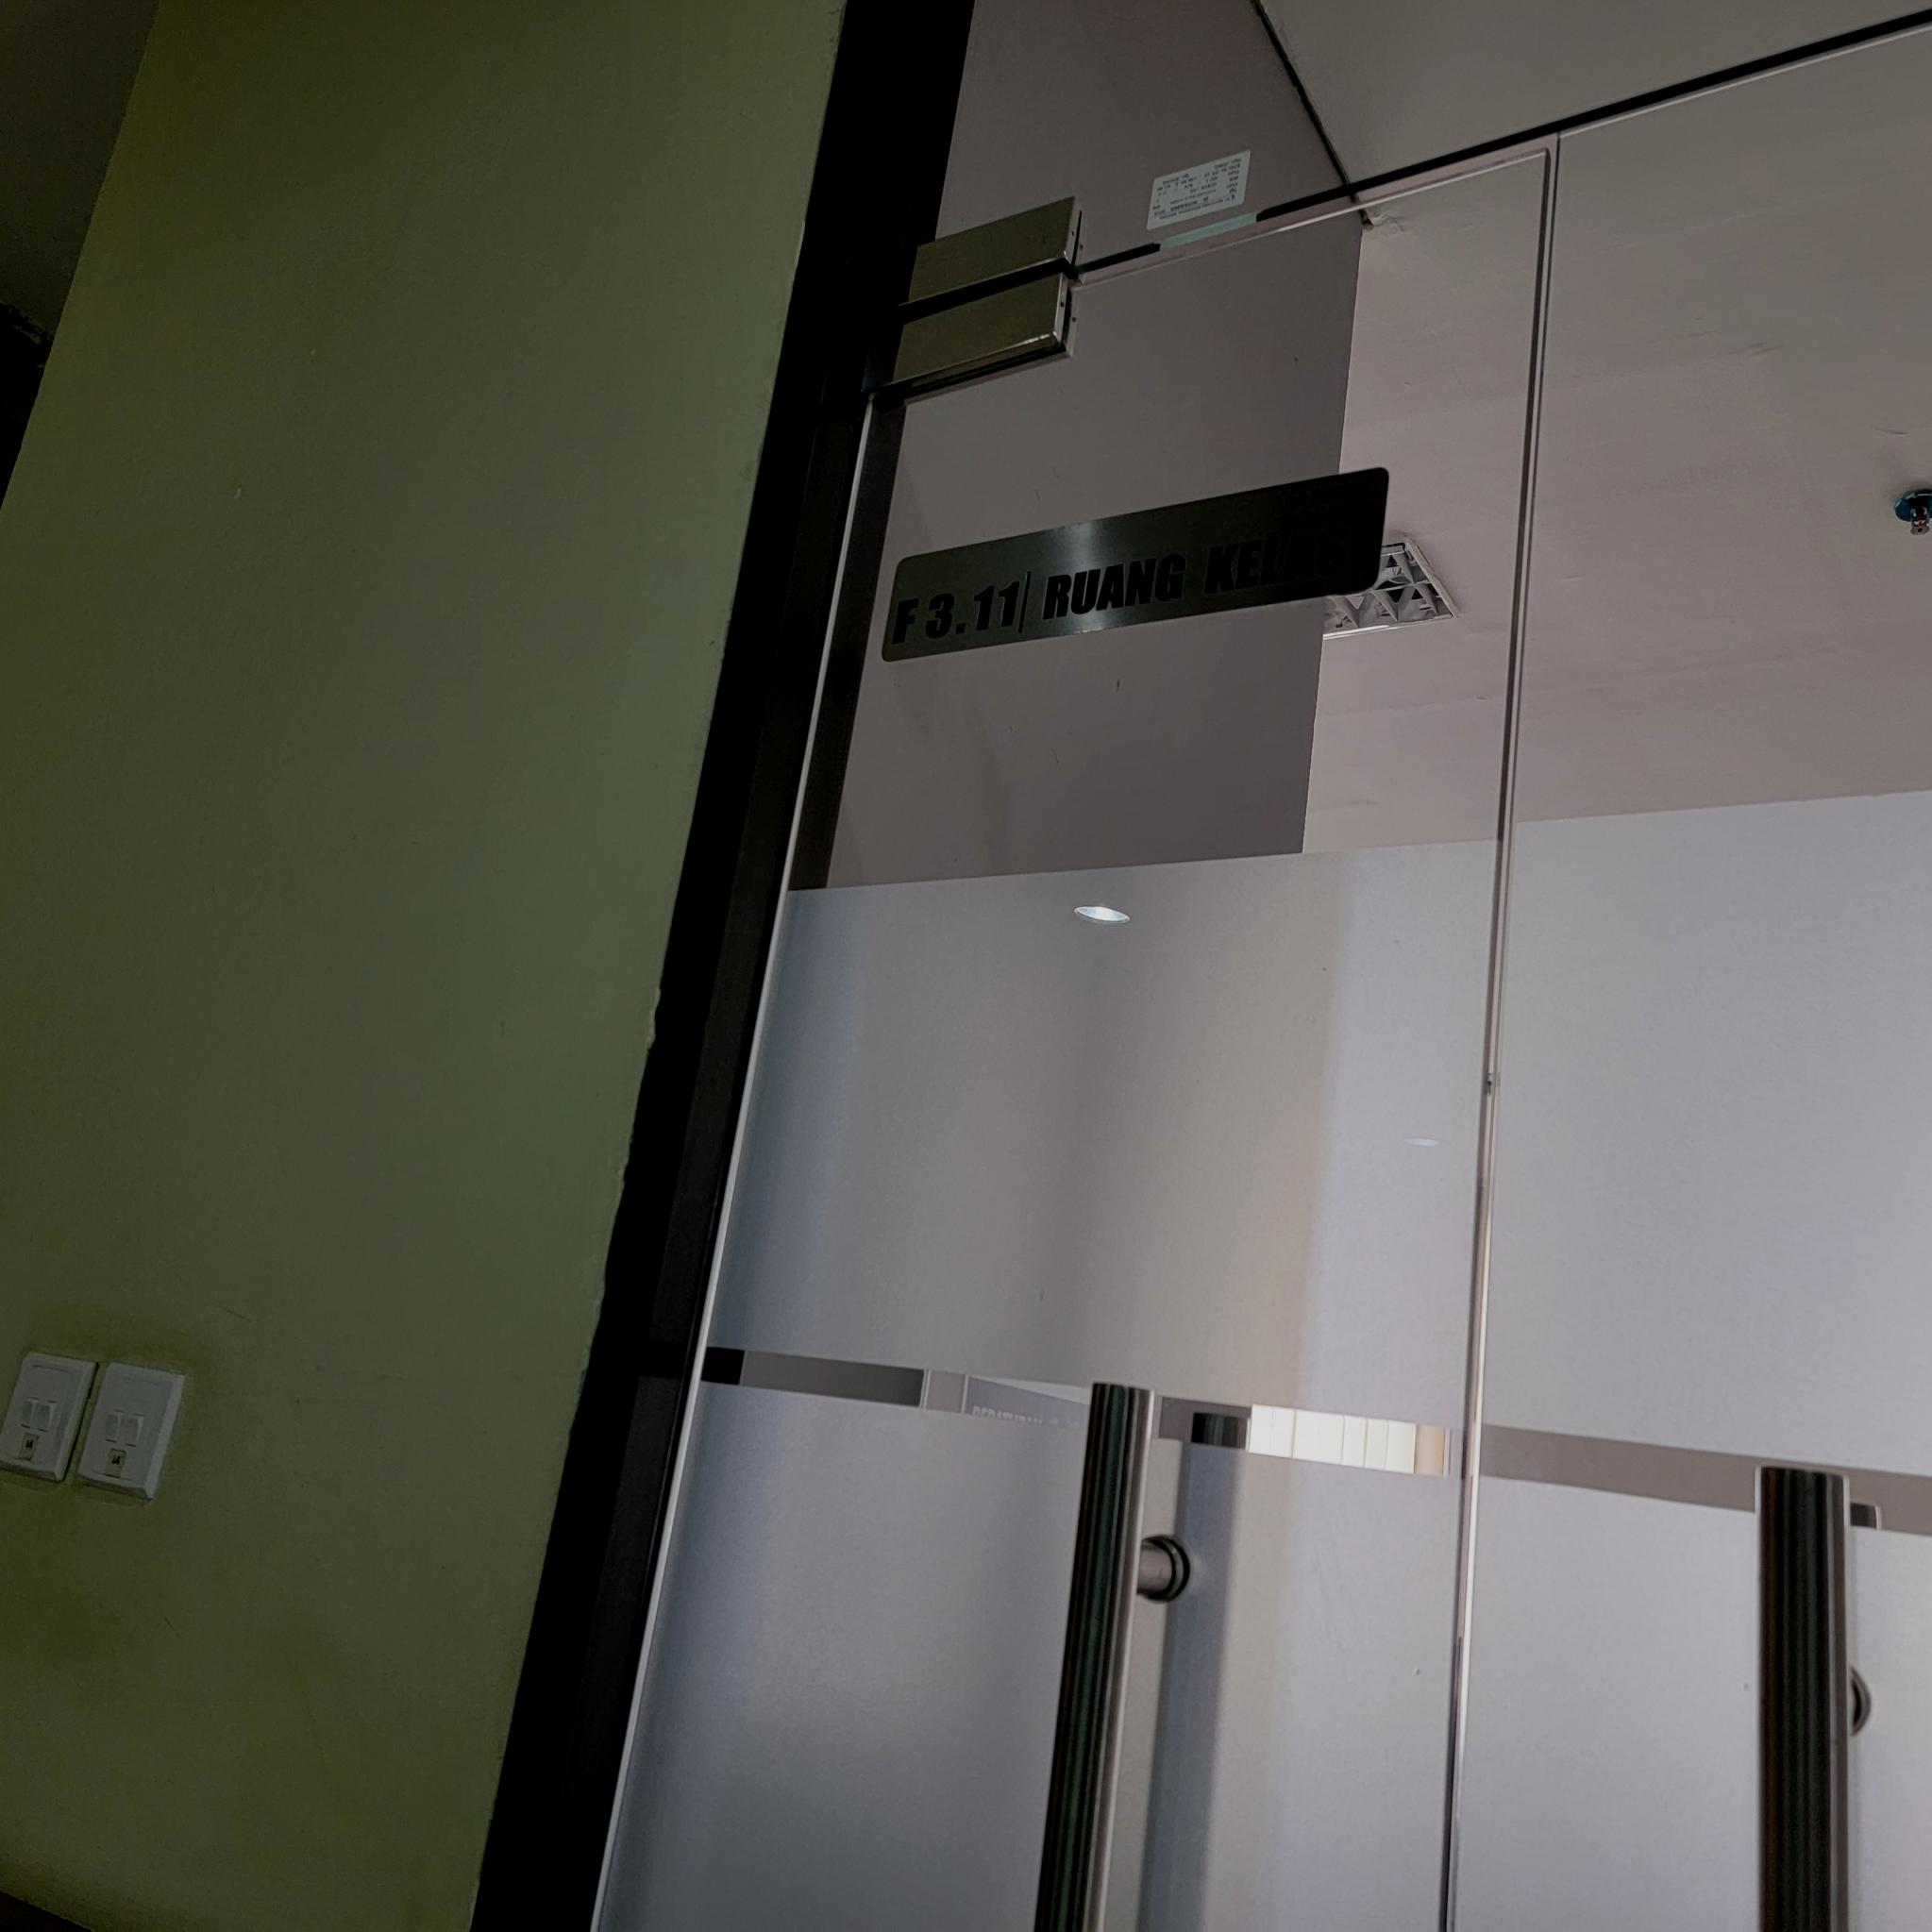plate: (881, 465, 1392, 662)
